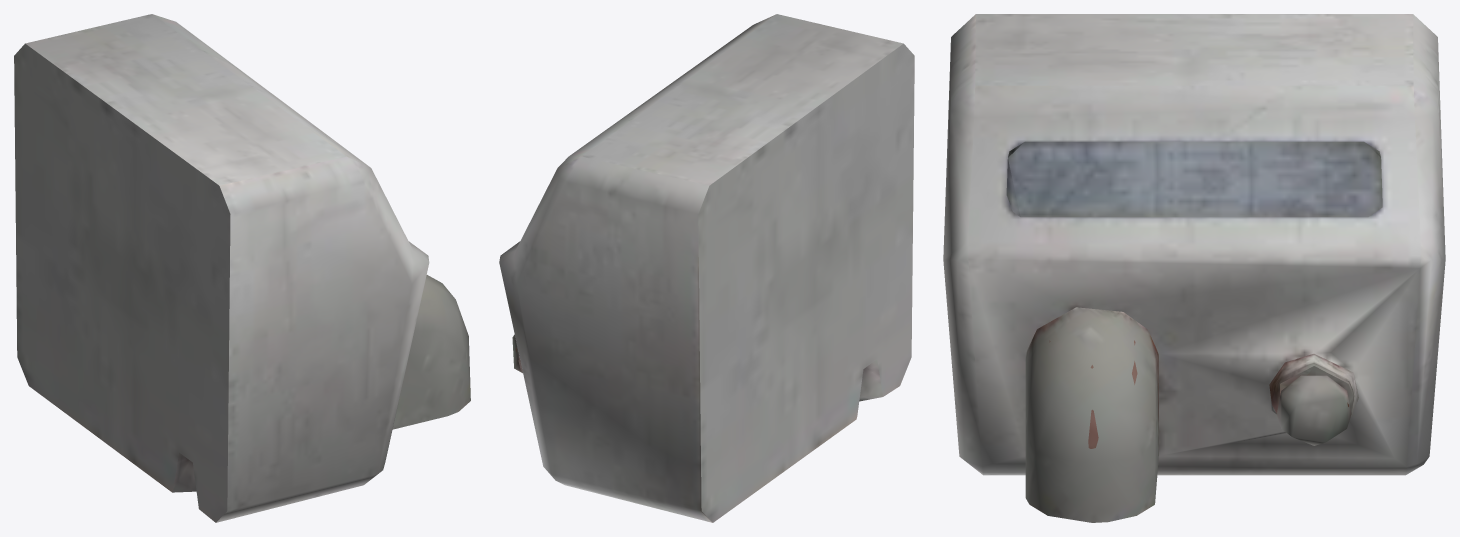
Rendered from hand-dryer.lod0.glb.
3 renders of one model, left to right at view 1: azimuth 30°, elevation 25°; view 2: azimuth 150°, elevation 25°; view 3: azimuth 270°, elevation 25°, orthographic. The views are drawn at different scales.
Visible parts, largest first — view 1: Object_14; view 2: Object_14; view 3: Object_14.
Part boxes in pixels (<box>): Object_14: <box>14,14,470,522</box>; Object_14: <box>499,14,914,522</box>; Object_14: <box>943,14,1445,522</box>.
Size of the model in its own units: 0.2654 by 0.2987 by 0.3463.
Materials: 1 (1 with a texture image).
